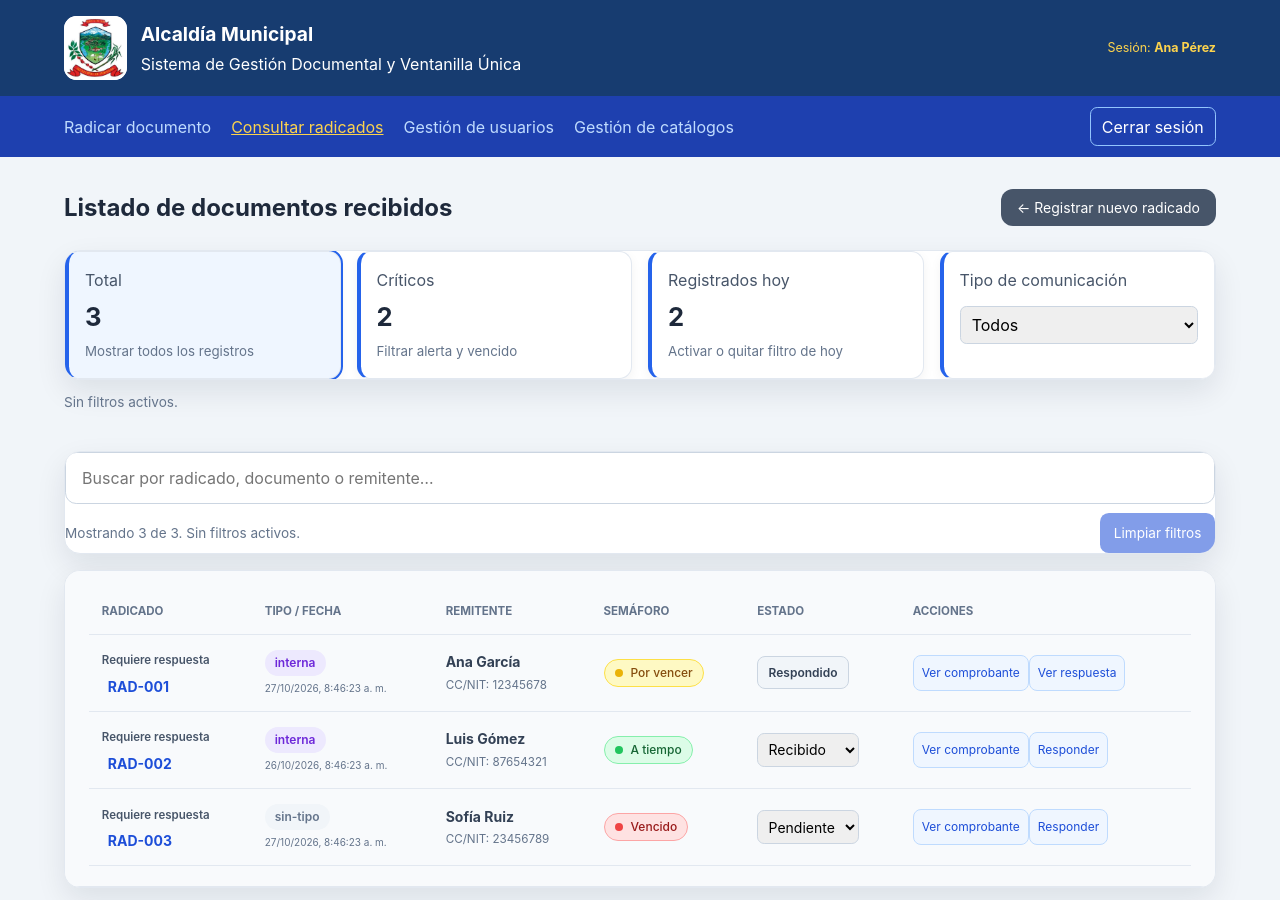
Test: consulta de radicados React › muestra autor, dependencia y fecha solo en Ver respuesta Interna
The image size is (1280, 900).
Expected: the button "RAD-002" is shown, x1=102 y1=752 x2=178 y2=775
Expected: the button "RAD-003" is shown, x1=102 y1=830 x2=178 y2=852
Click the button "RAD-001". click: (138, 686)
box: x1=102 y1=675 x2=175 y2=698
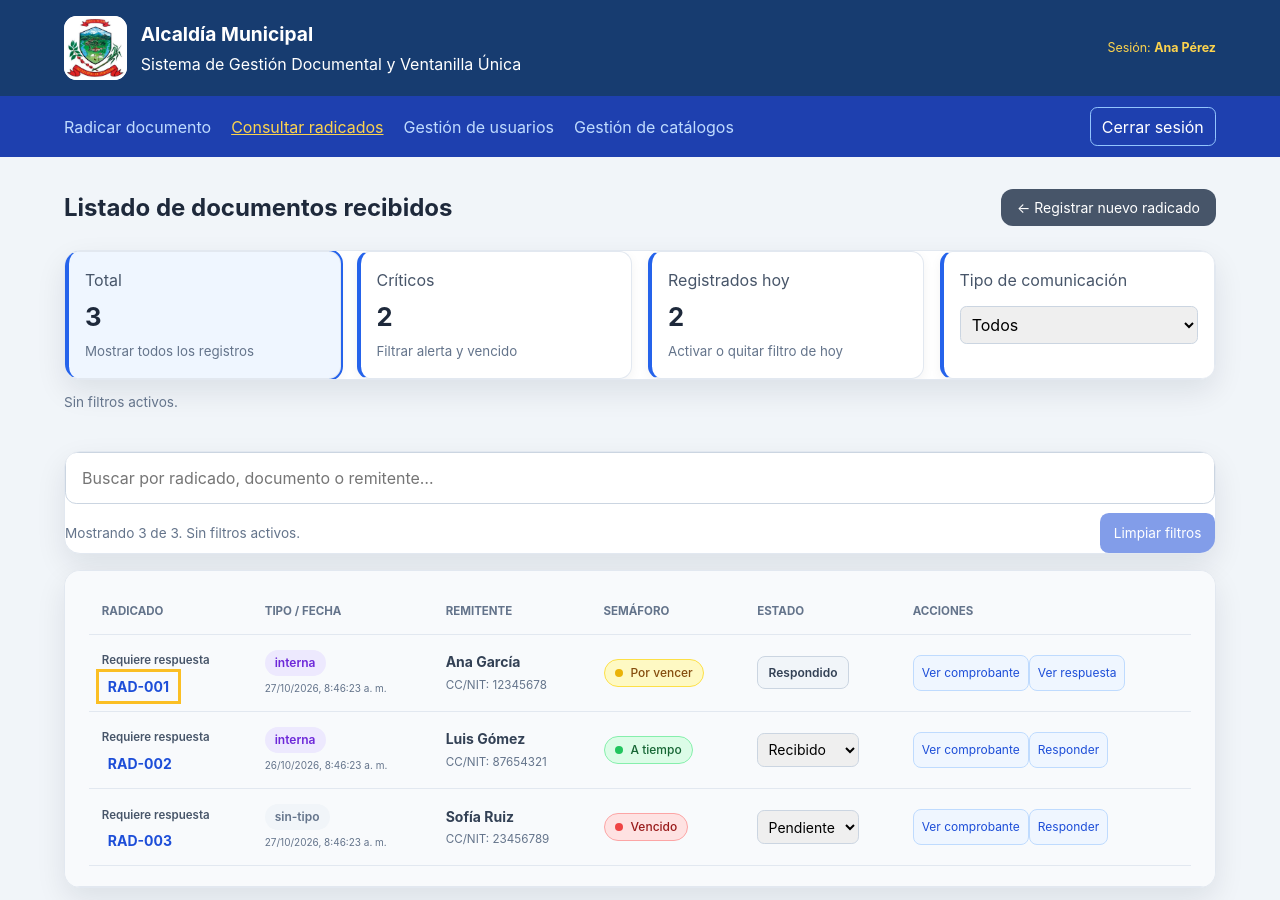
Expected: the text "Respuesta institucional" is not shown
Expected: the text "Dependencia responsable" is not shown
Click the button "Ver respuesta". click: (1077, 673)
box: x1=1029 y1=655 x2=1126 y2=691
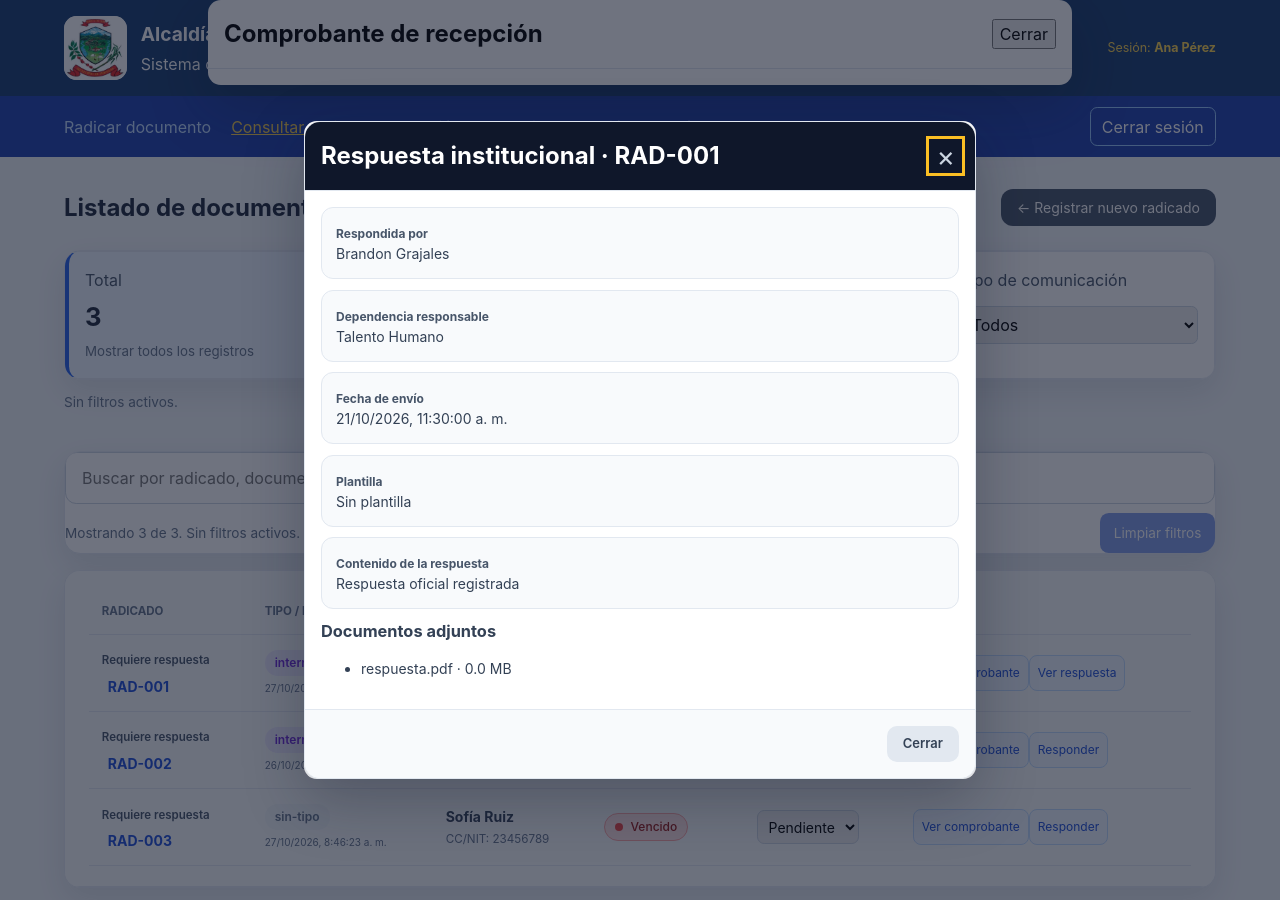
Expected: the text "Brandon Grajales" is shown, x1=336 y1=246 x2=450 y2=262
Expected: the text "Talento Humano" is shown, x1=336 y1=328 x2=444 y2=345
Expected: the text "Fecha de envío" shows "2026", x1=336 y1=410 x2=508 y2=427
